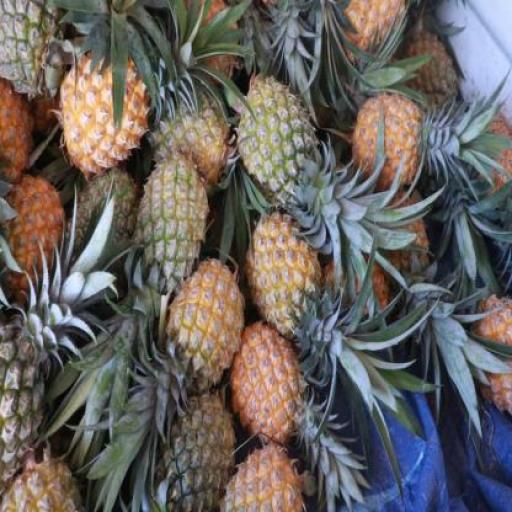------------------------------: (237, 77, 314, 205), (168, 255, 242, 386), (134, 157, 204, 291), (233, 322, 304, 450), (0, 314, 46, 506), (222, 432, 308, 512), (151, 97, 229, 185)
Pineapple - v8 v1: (62, 51, 148, 175), (248, 212, 322, 328), (354, 96, 424, 198)
